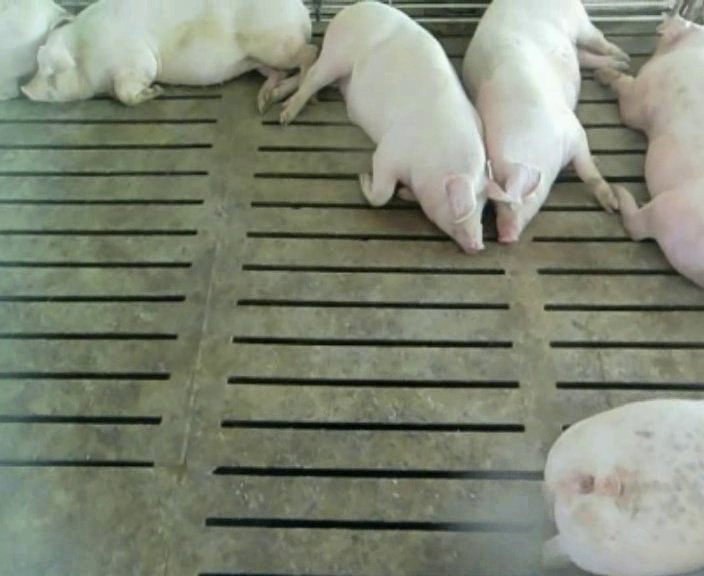pig: (272, 2, 520, 251), (464, 2, 629, 242), (21, 2, 316, 110), (596, 16, 703, 286), (543, 400, 703, 574)
